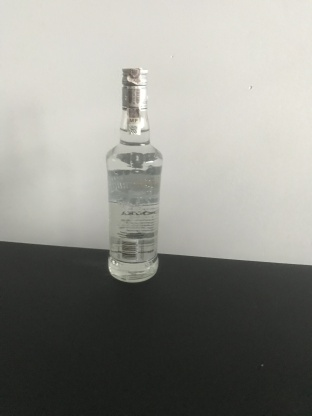nakretka: (120, 65, 149, 112)
